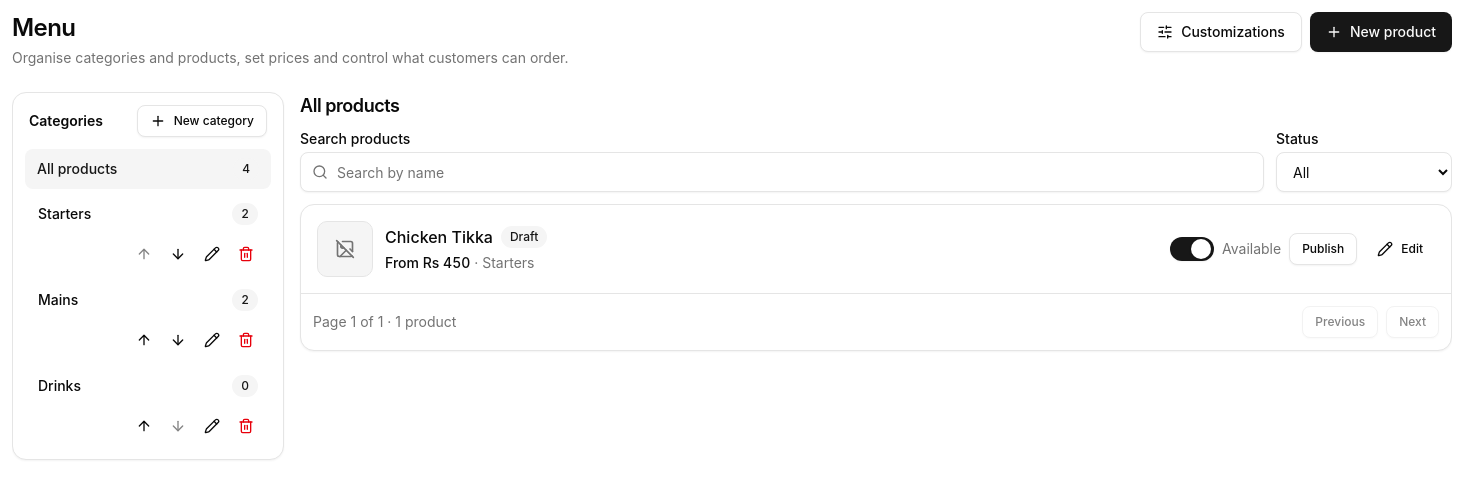
Scenario: MenuPage › shows why a product cannot be published
The width and height of the screenshot is (1464, 477).
Click the button with aria-label "Publish Chicken Tikka": (1323,249) [1289,233,1357,265]
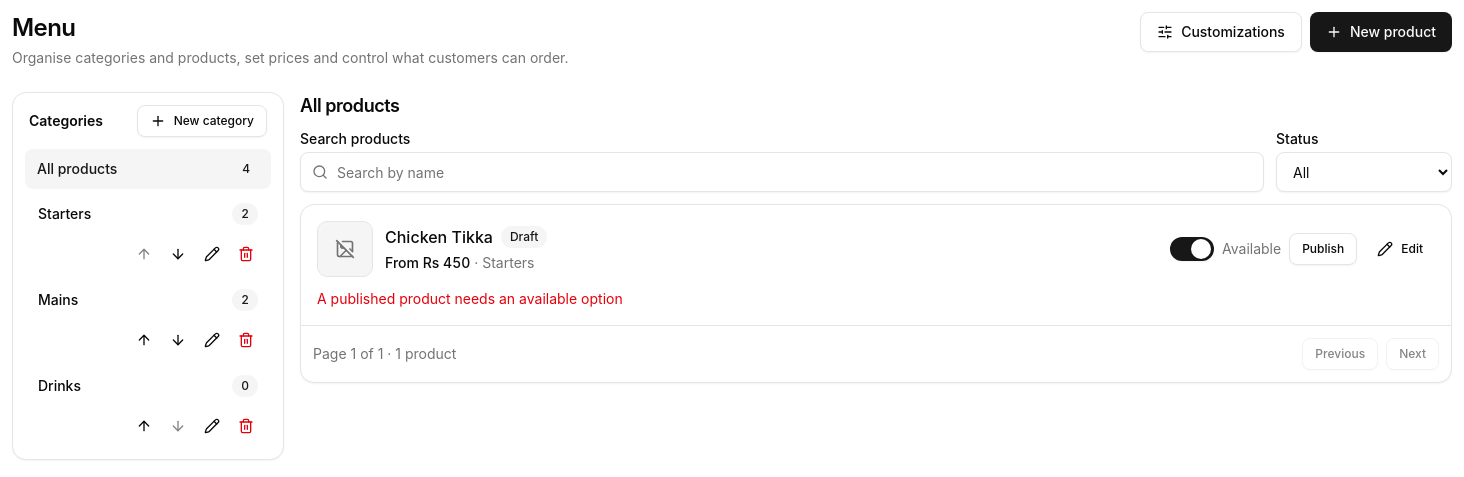
Expected: the message reads "A published product needs an available option", [317,290,623,307]
